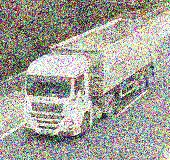truck: (22, 19, 160, 139)
